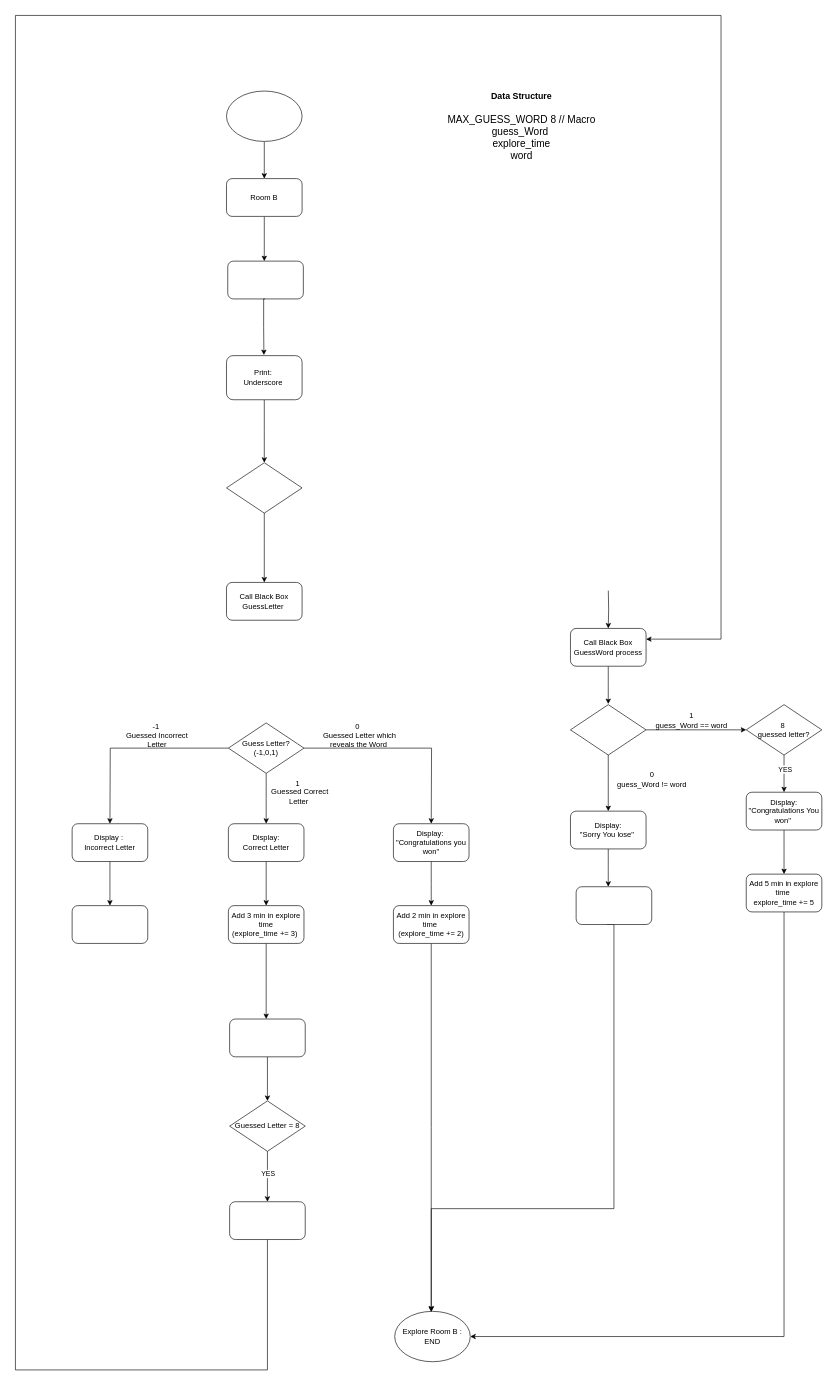
This 833x1386 diagram has some shape labels left out. The shapes that lost their labels are listed below. From the top down, each one's centre as x and y in pixels, then its label:
At [264,115]: "Start".
At [265,280]: "Call Black Box Processor GenerateWord".
At [264,487]: "Guess Word?".
At [608,729]: "Guess Word? (0,1)".
At [110,924]: "Add 6 min in explore time (explore_time += 6)".
At [614,905]: "Add 25 min in explore time explore_time += 25".
At [267,1037]: "Check how many letter has been guessed?".
At [267,1220]: "Display: You run out of letter guessed".
